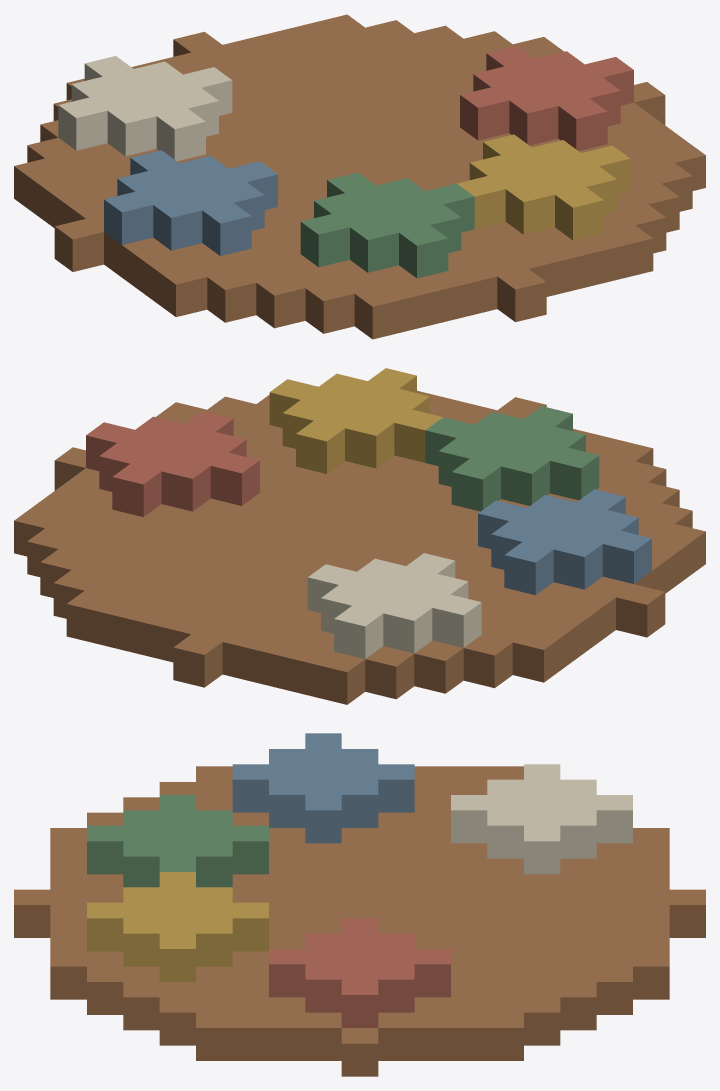
Rendered from beauty-10.glb.
The picture shows the model from 3 angles, top to bottom: view 1: azimuth 30°, elevation 25°; view 2: azimuth 150°, elevation 25°; view 3: azimuth 270°, elevation 25°; orthographic projection.
Visible parts, largest first — view 1: Color palette; view 2: Color palette; view 3: Color palette.
Boxes of the visible parts, x1,y1,x2,y2 form: Color palette: (14,14,705,339); Color palette: (14,368,705,704); Color palette: (14,733,705,1076).
Bounding box in the file's own units: 1.52 × 0.16 × 1.52.
